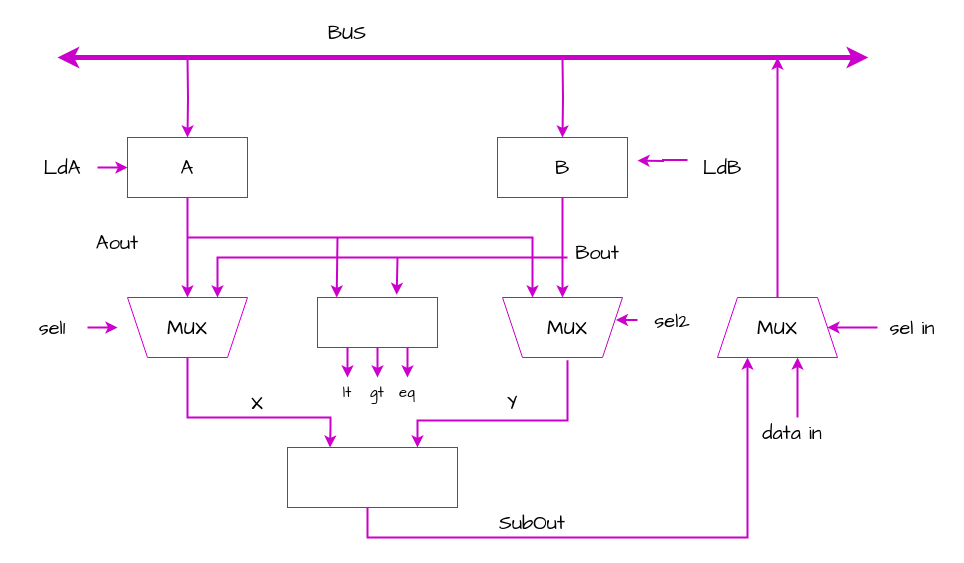
This 964x563 diagram has some shape labels left out. The shapes that lost their labels are listed below. From the top down, each one's centre as x and y in pixels, then its label:
At [377,322]: "COMP".
At [372,477]: "SUBTRACTOR".
